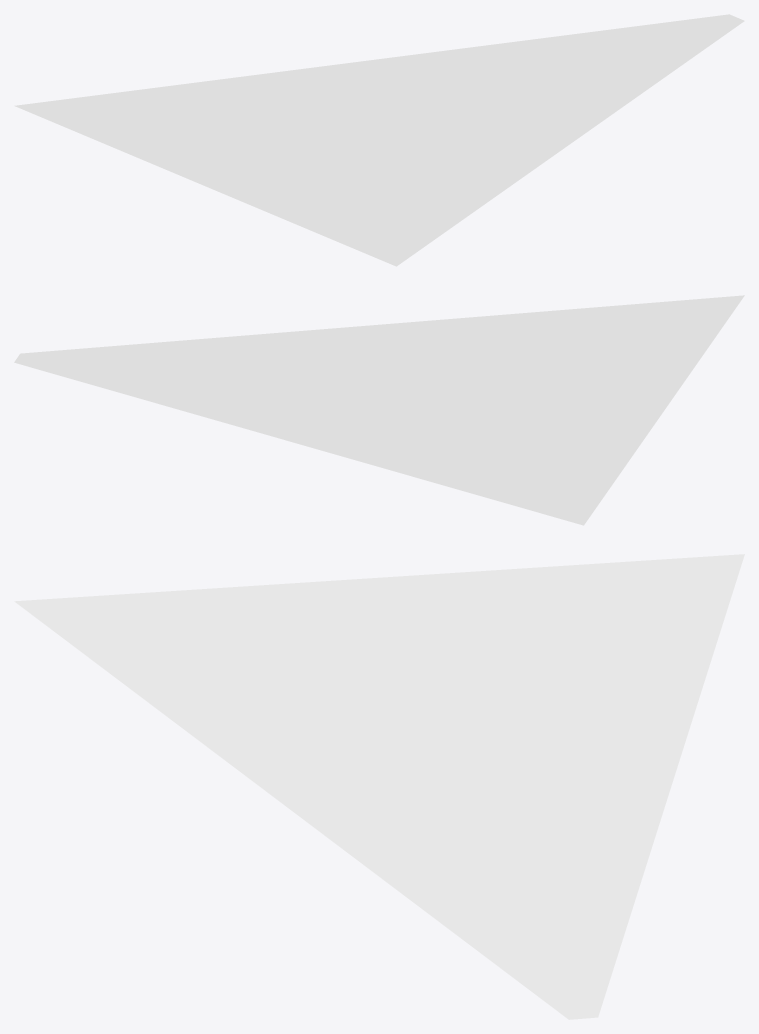
File: PaperAirplaneAnimated.fbx
3 renders of one model, top to bottom at view 1: azimuth 30°, elevation 25°; view 2: azimuth 150°, elevation 25°; view 3: azimuth 270°, elevation 25°, orthographic. The views are drawn at different scales.
Parts seen in each view (by area): view 1: PaperAirplaneAnim:PaperAirplane; view 2: PaperAirplaneAnim:PaperAirplane; view 3: PaperAirplaneAnim:PaperAirplane.
Part boxes in pixels (left/top/right/bottom): PaperAirplaneAnim:PaperAirplane: left=14, top=14, right=744, bottom=266; PaperAirplaneAnim:PaperAirplane: left=14, top=295, right=744, bottom=525; PaperAirplaneAnim:PaperAirplane: left=14, top=554, right=744, bottom=1019.
Size of the model in its own units: 1.66e-12 by 1.07e-13 by 1.2e-12.
